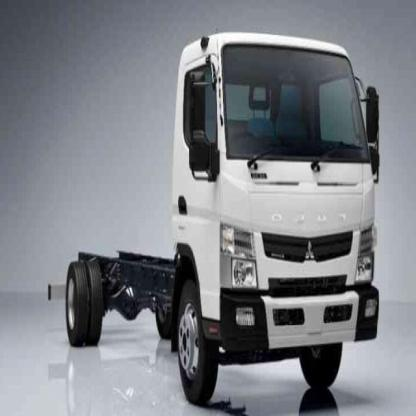truck: (50, 31, 379, 408)
